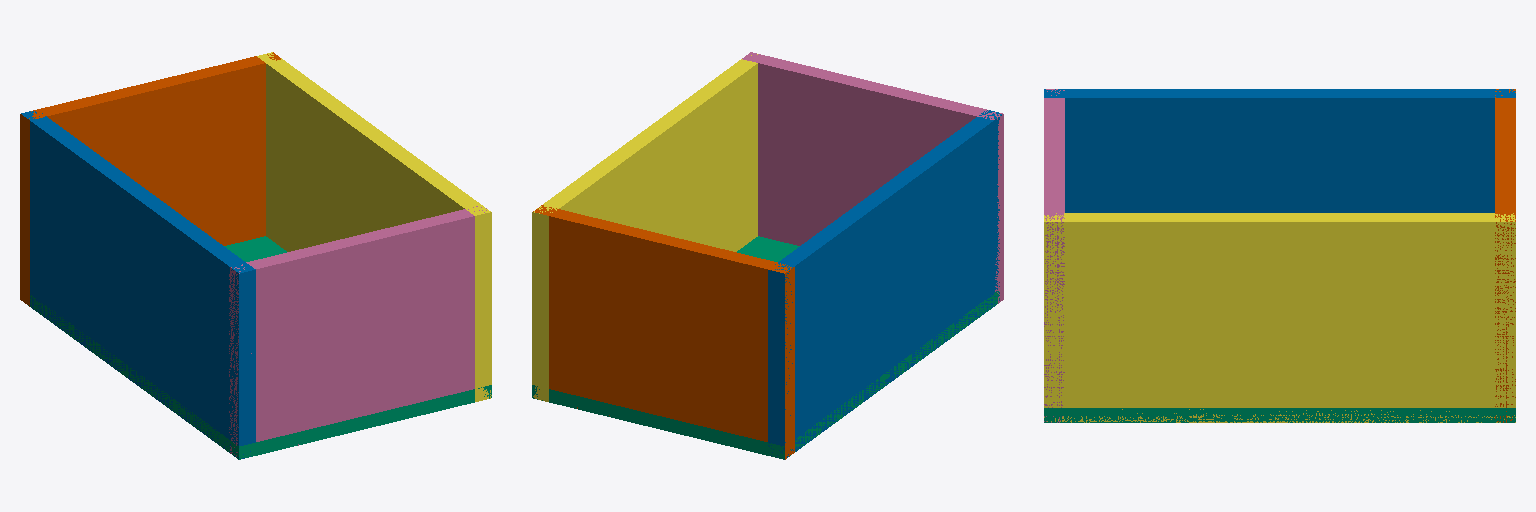
The robot description file, URDF, robot "bin":
<?xml version="1.0" encoding="utf-8"?>
<!-- TODO add inertial data -->
<!-- =================================================================================== -->
<!-- |    This document was autogenerated by xacro from bin.xacro                      | -->
<!-- |    EDITING THIS FILE BY HAND IS NOT RECOMMENDED                                 | -->
<!-- =================================================================================== -->
<robot name="bin">
  <link name="world" />
  <link name="bin" />
  <joint name="world_to_bin" type="fixed">
    <parent link="world"/>
    <child link="bin"/>
    <origin xyz="0.1 -0.5 0.0"/>
  </joint>

  <link name="bin_bottom">
    <visual>
      <geometry>
        <box size="0.394 0.591 0.02"/>
      </geometry>
    </visual>
    <collision>
      <geometry>
        <box size="0.394 0.591 0.02"/>
      </geometry>
    </collision>
  </link>
  <joint name="bin_to_bin_bottom" type="fixed">
    <parent link="bin"/>
    <child link="bin_bottom"/>
    <origin xyz="0 0 0.01"/>
  </joint>
  <link name="bin_front">
    <visual>
      <geometry>
        <box size="0.026 0.591 0.278"/>
      </geometry>
    </visual>
    <collision>
      <geometry>
        <box size="0.026 0.591 0.278"/>
      </geometry>
    </collision>
  </link>
  <joint name="bin_to_bin_front" type="fixed">
    <parent link="bin"/>
    <child link="bin_front"/>
    <origin xyz="0.184 0 0.139"/>
  </joint>
  <link name="bin_back">
    <visual>
      <geometry>
        <box size="0.026 0.591 0.278"/>
      </geometry>
    </visual>
    <collision>
      <geometry>
        <box size="0.026 0.591 0.278"/>
      </geometry>
    </collision>
  </link>
  <joint name="bin_to_bin_back" type="fixed">
    <parent link="bin"/>
    <child link="bin_back"/>
    <origin xyz="-0.184 0 0.139"/>
  </joint>
  <link name="bin_left">
    <visual>
      <geometry>
        <box size="0.394 0.026 0.278"/>
      </geometry>
    </visual>
    <collision>
      <geometry>
        <box size="0.394 0.026 0.278"/>
      </geometry>
    </collision>
  </link>
  <joint name="bin_to_bin_left" type="fixed">
    <parent link="bin"/>
    <child link="bin_left"/>
    <origin xyz="0 0.2825 0.139"/>
  </joint>
  <link name="bin_right">
    <visual>
      <geometry>
        <box size="0.394 0.026 0.278"/>
      </geometry>
    </visual>
    <collision>
      <geometry>
        <box size="0.394 0.026 0.278"/>
      </geometry>
    </collision>
  </link>
  <joint name="bin_to_bin_right" type="fixed">
    <parent link="bin"/>
    <child link="bin_right"/>
    <origin xyz="0 -0.2825 0.139"/>
  </joint>
</robot>

--- Facts derived from the render (not from the file) ---
3 views of the same robot in one strip: view 1: azimuth 30°, elevation 25°; view 2: azimuth 150°, elevation 25°; view 3: azimuth 270°, elevation 25° (orthographic).
Robot: bin — 7 links, 6 joints (6 fixed); root link world; default pose: every joint at zero.
Visible links, largest first — view 1: bin_back, bin_right, bin_left, bin_front, bin_bottom; view 2: bin_back, bin_left, bin_right, bin_front, bin_bottom; view 3: bin_front, bin_back, bin_bottom, bin_left, bin_right.
Boxes of the visible links, left/top/right/bottom form: bin_back: left=21, top=111, right=255, bottom=459; bin_right: left=229, top=206, right=486, bottom=456; bin_left: left=20, top=52, right=280, bottom=306; bin_front: left=257, top=52, right=491, bottom=401; bin_bottom: left=28, top=236, right=491, bottom=459; bin_back: left=768, top=110, right=1001, bottom=459; bin_left: left=533, top=205, right=794, bottom=459; bin_right: left=742, top=52, right=1003, bottom=303; bin_front: left=532, top=54, right=757, bottom=401; bin_bottom: left=532, top=236, right=999, bottom=459; bin_front: left=1044, top=213, right=1515, bottom=422; bin_back: left=1044, top=89, right=1515, bottom=212; bin_bottom: left=1044, top=408, right=1515, bottom=422; bin_left: left=1495, top=89, right=1515, bottom=422; bin_right: left=1044, top=89, right=1064, bottom=422.
Size in the robot's own frame: 0.394 by 0.591 by 0.278 metres.
Geometry: primitives only (box / cylinder / sphere), no mesh files.
